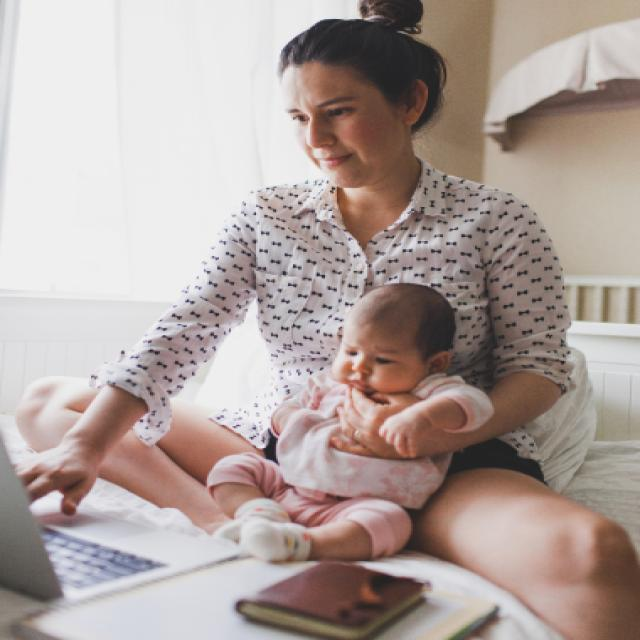non-dog: (8, 3, 640, 640), (199, 283, 494, 566)
